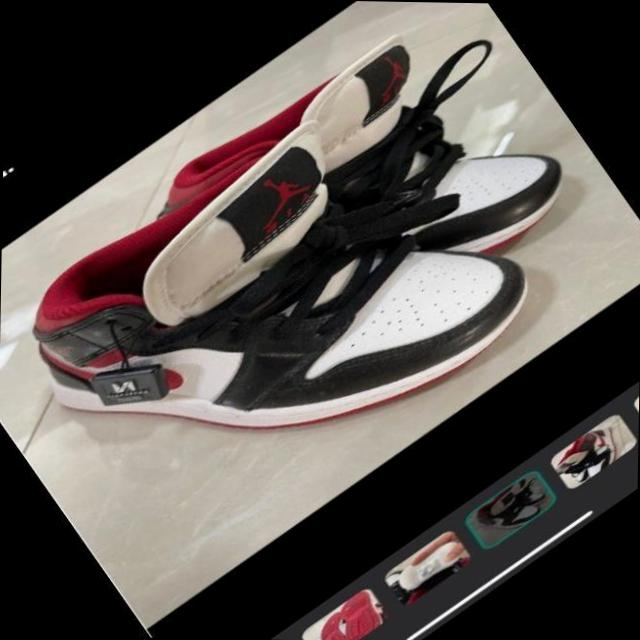nike_fake_jordan: (0, 45, 558, 607), (134, 0, 587, 408)
